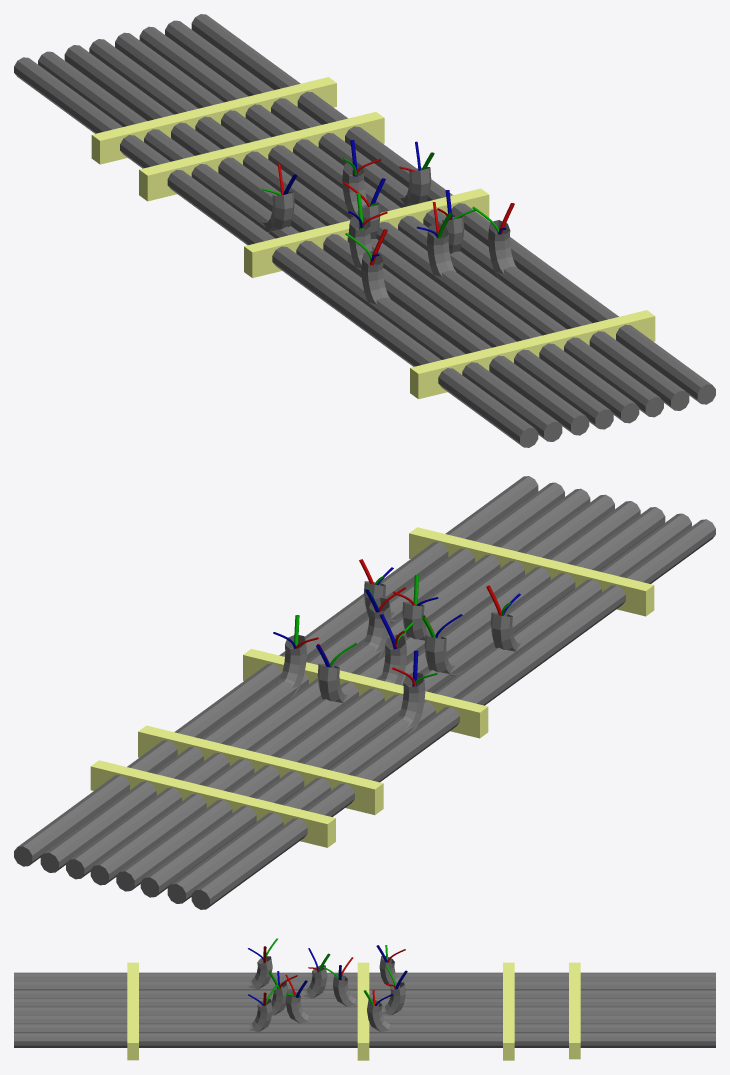
The model's file is Cables_sol3.fbx.
3 views of the same model, one above another, from view 1: azimuth 30°, elevation 25°; view 2: azimuth 150°, elevation 25°; view 3: azimuth 270°, elevation 25° (orthographic). The views are drawn at different scales.
Parts seen in each view (by area): view 1: Tube20, Tube22, Tube24, Tube27, Tube21, Tube23, Tube26, Tube25, Support_tube14, Support_tube13, Support_tube12, Support_tube15 (+7 smaller); view 2: Tube20, Tube22, Tube27, Tube21, Tube26, Tube24, Tube23, Tube25, Support_tube14, Support_tube13, Support_tube12, Support_tube15 (+8 smaller); view 3: Tube27, Tube26, Tube25, Tube20, Tube24, Tube21, Tube22, Tube23, Support_tube15, Support_tube13, Support_tube14, Support_tube12 (+9 smaller).
Part boxes in pixels (left/top/right/bottom): Tube20: left=14, top=57, right=538, bottom=447; Tube22: left=64, top=45, right=589, bottom=435; Tube24: left=115, top=32, right=639, bottom=423; Tube27: left=191, top=14, right=715, bottom=404; Tube21: left=38, top=51, right=562, bottom=441; Tube23: left=89, top=39, right=613, bottom=429; Tube26: left=165, top=20, right=689, bottom=410; Tube25: left=139, top=26, right=663, bottom=417; Support_tube14: left=139, top=112, right=384, bottom=201; Support_tube13: left=410, top=310, right=655, bottom=399; Support_tube12: left=91, top=77, right=336, bottom=164; Support_tube15: left=244, top=188, right=489, bottom=277; Tube20: left=191, top=519, right=715, bottom=909; Tube22: left=140, top=507, right=665, bottom=897; Tube27: left=14, top=476, right=538, bottom=866; Tube21: left=167, top=513, right=691, bottom=903; Tube26: left=40, top=482, right=564, bottom=872; Tube24: left=90, top=494, right=614, bottom=885; Tube23: left=116, top=501, right=640, bottom=891; Tube25: left=66, top=488, right=590, bottom=879; Support_tube14: left=138, top=725, right=383, bottom=814; Support_tube13: left=409, top=527, right=654, bottom=616; Support_tube12: left=90, top=760, right=335, bottom=847; Support_tube15: left=243, top=649, right=488, bottom=738; Tube27: left=14, top=1033, right=715, bottom=1047; Tube26: left=14, top=1024, right=715, bottom=1032; Tube25: left=14, top=1015, right=715, bottom=1023; Tube20: left=14, top=972, right=715, bottom=980; Tube24: left=14, top=1007, right=715, bottom=1015; Tube21: left=14, top=981, right=715, bottom=989; Tube22: left=14, top=990, right=715, bottom=998; Tube23: left=14, top=998, right=715, bottom=1006; Support_tube15: left=357, top=962, right=369, bottom=1060; Support_tube13: left=127, top=962, right=138, bottom=1060; Support_tube14: left=503, top=962, right=514, bottom=1060; Support_tube12: left=569, top=962, right=580, bottom=1059.
Bounding box in the file's own units: 2.7 × 0.8854 × 9.99.
